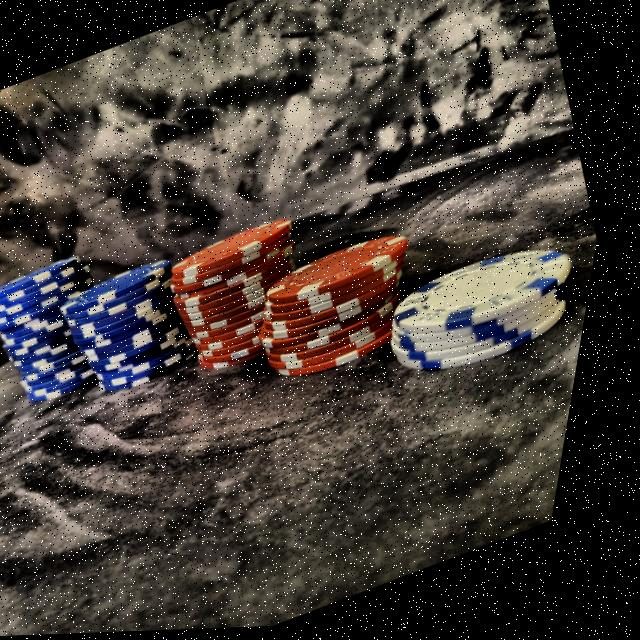Chip: (364, 214, 610, 405), (230, 212, 459, 405), (147, 192, 352, 402), (0, 243, 142, 432), (58, 255, 219, 409)
